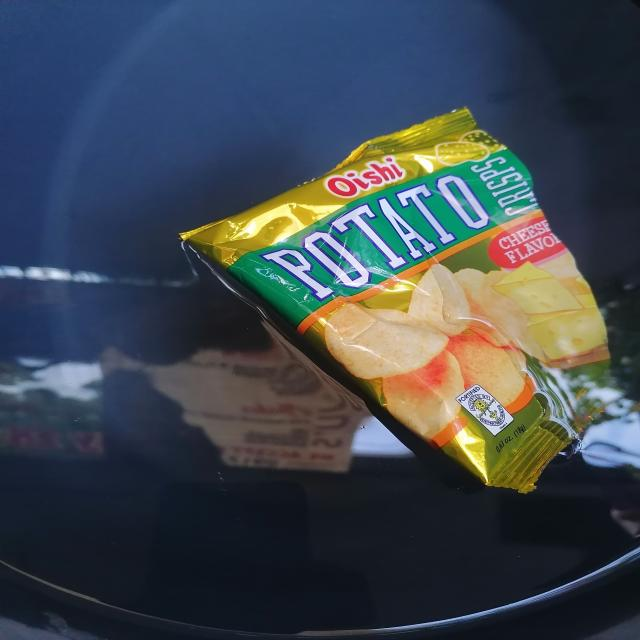Plastic Wrapper: (180, 107, 620, 493)
